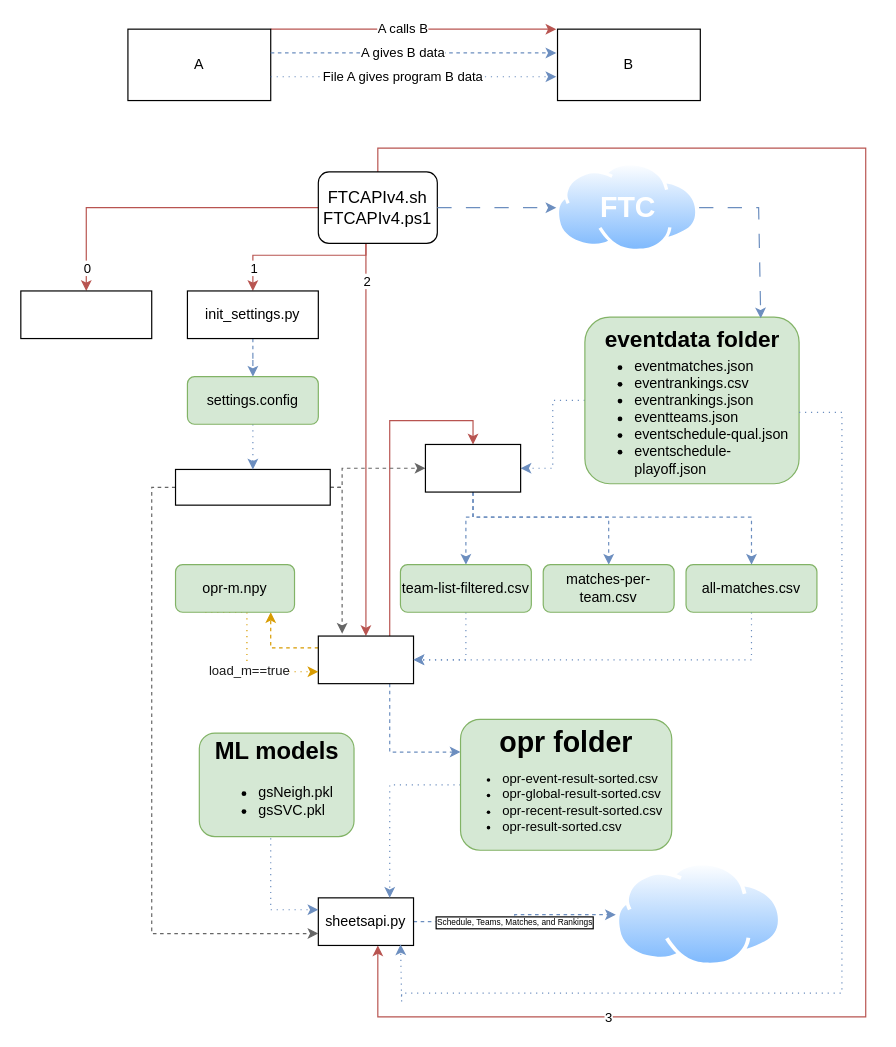
Image size: 896x1047. Some labels were removed from this diagram. Here are the shapes that lost their labels. From the top down, the box of each, then its label:
(20, 290, 152, 339): __init__.py
(174, 468, 330, 505): commonresources.py
(424, 443, 521, 492): jsonparse.py
(317, 635, 414, 684): OPRv4.py
(615, 862, 782, 967): Google Sheets
